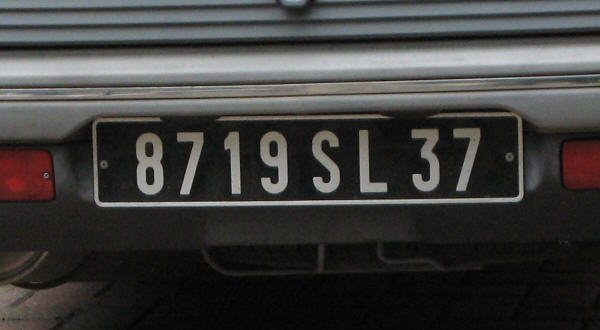license_plate: (89, 115, 525, 201)
